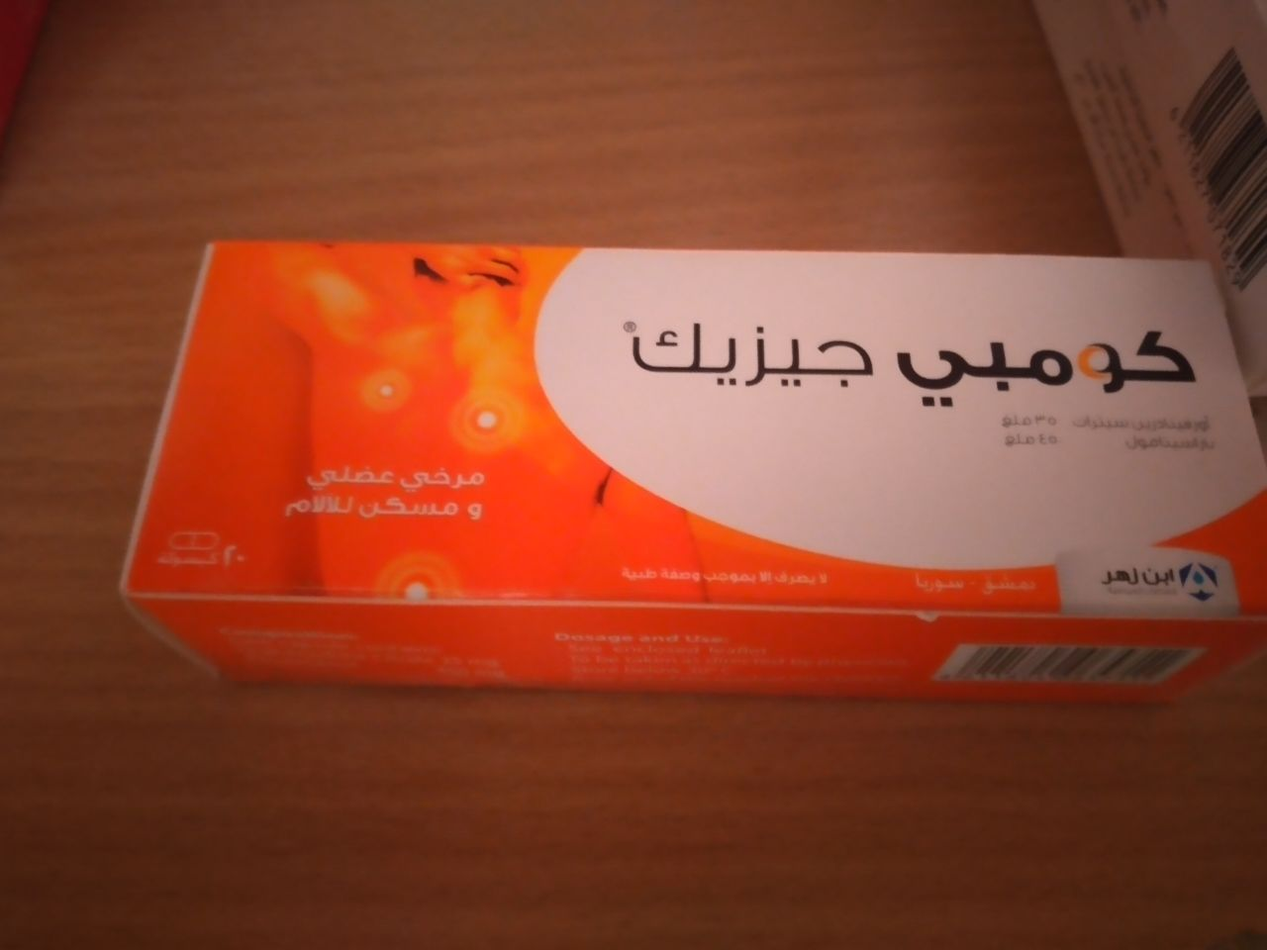Medicine: (116, 215, 1267, 690)
